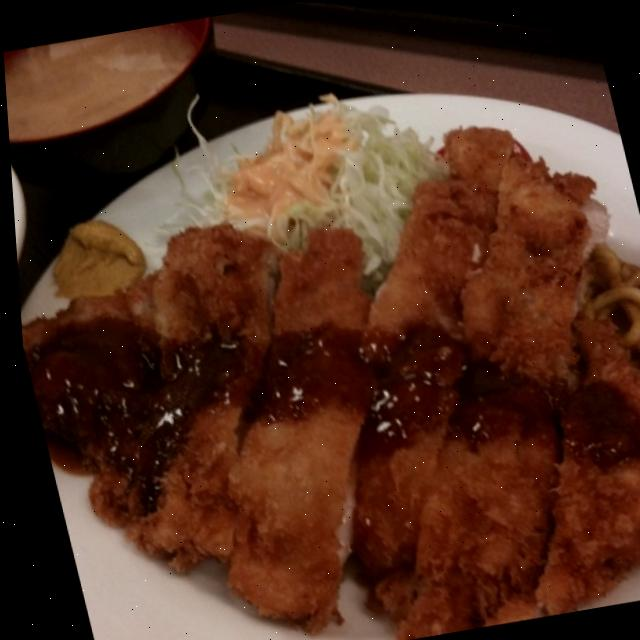鸡肉料理 含炸鸡: (5, 86, 640, 640)
